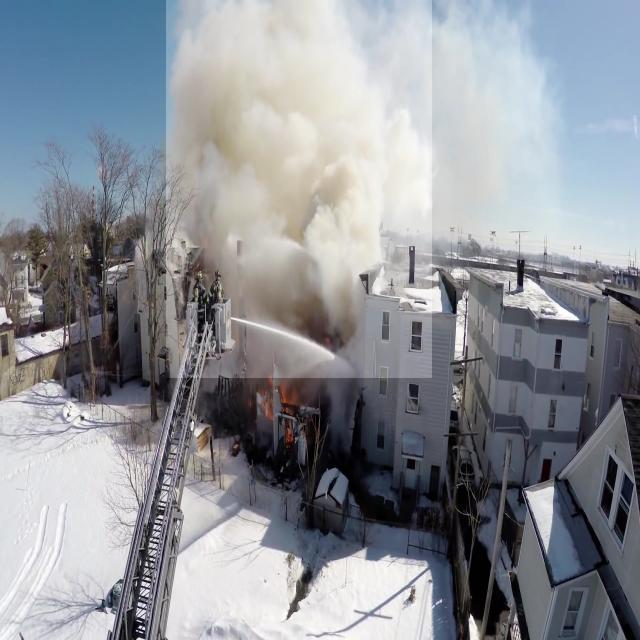Smoke: (166, 0, 432, 378)
